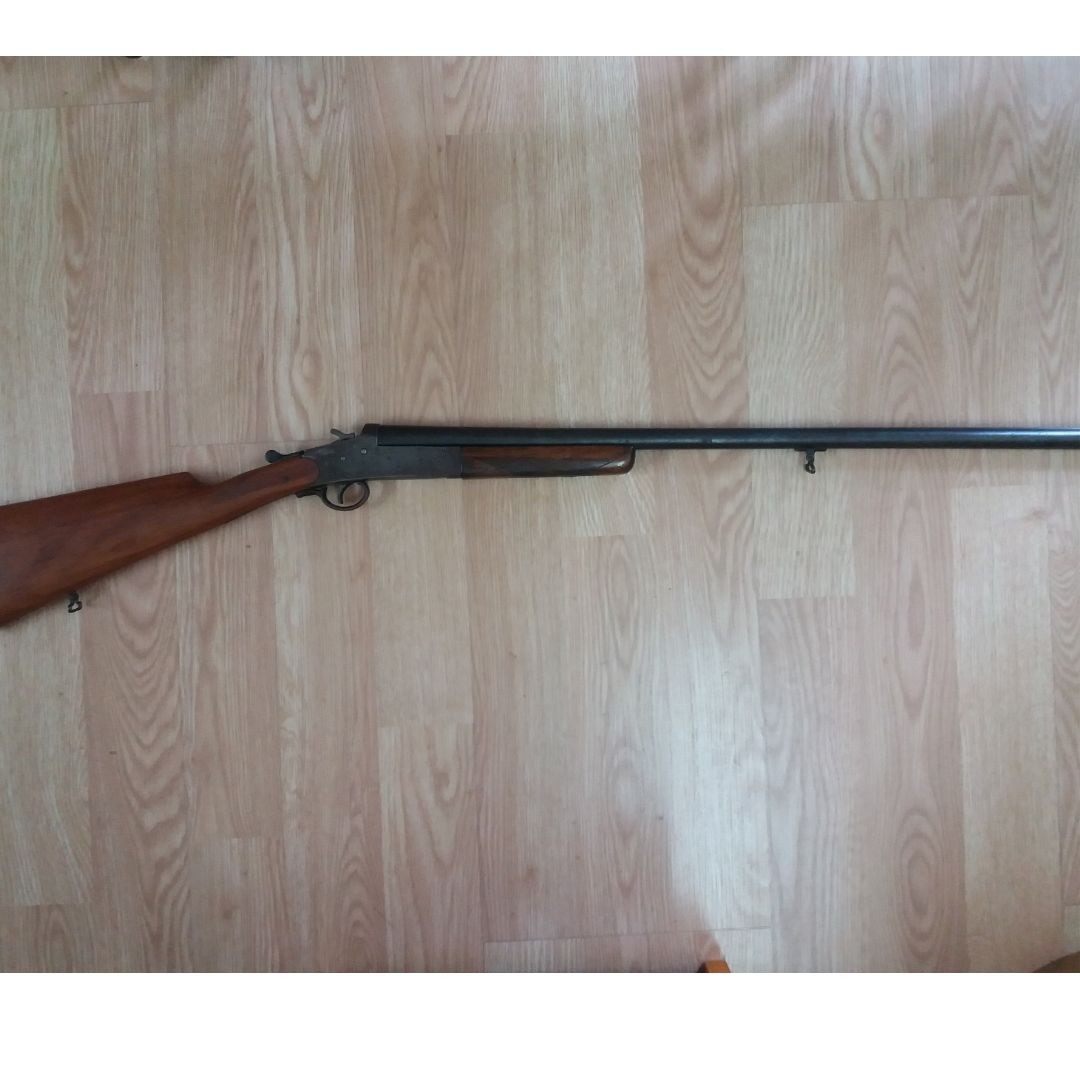weapon: (3, 414, 1080, 639)
